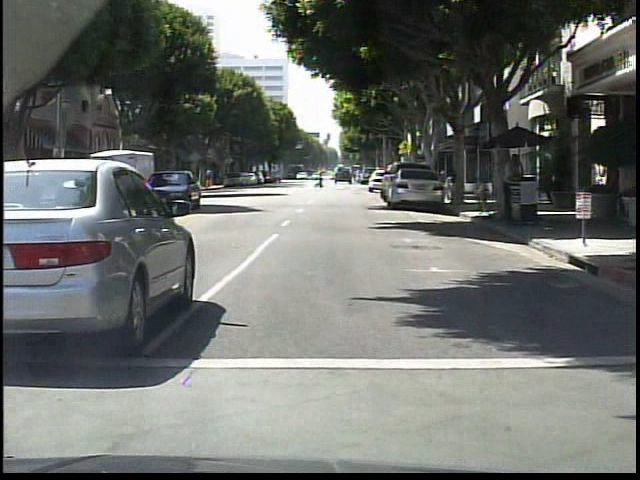person: (504, 153, 527, 226), (315, 168, 325, 188)
